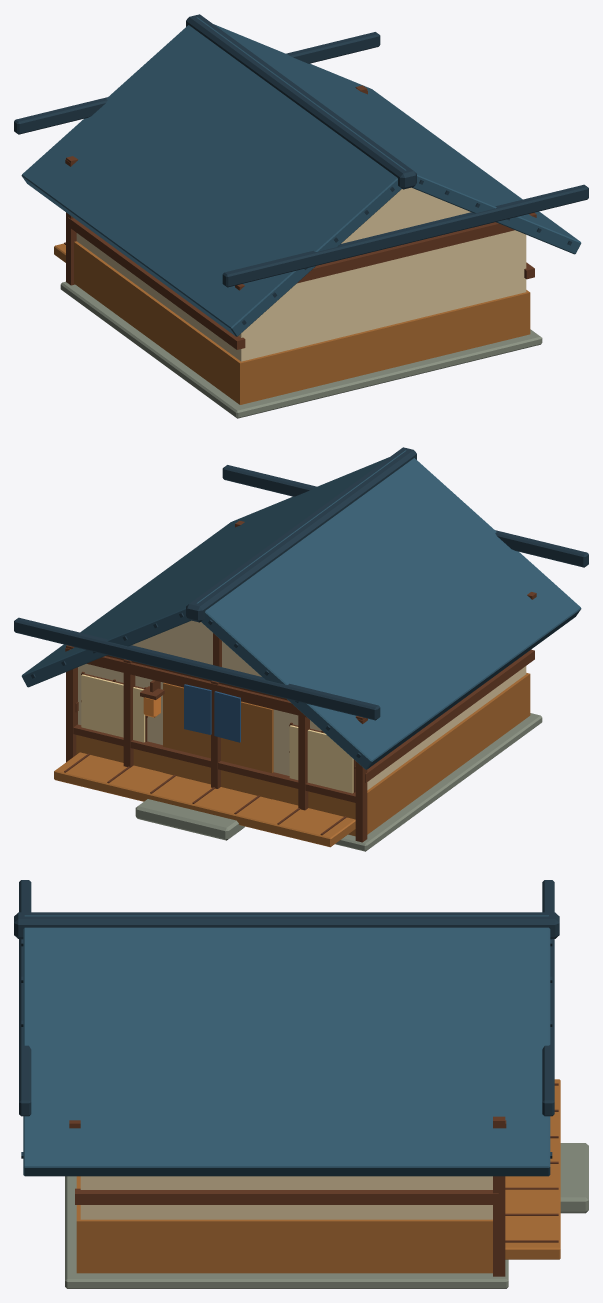
File: grandma_house_exterior.glb
3 renders of one model, top to bottom at view 1: azimuth 30°, elevation 25°; view 2: azimuth 150°, elevation 25°; view 3: azimuth 270°, elevation 25°, orthographic. The views are drawn at different scales.
Parts seen in each view (by area): view 1: RoofLeft, LowerWoodSkirt, MainBody, RoofRight, Foundation, RoofEave_-4.72, RoofRidge, BackGable, RoofEave_4.72, BackTopBeam, CornerPost_-3.78, FrontPost_-3.78; view 2: RoofLeft, RoofRight, LowerWoodSkirt, EngawaDeck, RoofEave_4.72, RoofRidge, MainBody, EntryDoorLeft, Foundation, WindowGlowRight, EntryDoorRight, RoofEave_-4.72 (+13 smaller); view 3: RoofRight, LowerWoodSkirt, MainBody, RoofRidge, Foundation, CornerPost_3.78, EngawaDeck, EntranceStep, RoofEave_4.72, RoofEave_-4.72, FrontPost_3.78, RoofLeft.
Boxes of the visible parts, left/top/right/bottom form: RoofLeft: left=21, top=17, right=406, bottom=336; LowerWoodSkirt: left=74, top=241, right=530, bottom=404; MainBody: left=76, top=230, right=526, bottom=361; RoofRight: left=196, top=17, right=581, bottom=254; Foundation: left=60, top=281, right=542, bottom=418; RoofEave_-4.72: left=222, top=184, right=588, bottom=287; RoofRidge: left=186, top=14, right=416, bottom=189; BackGable: left=341, top=187, right=470, bottom=243; RoofEave_4.72: left=14, top=32, right=380, bottom=134; BackTopBeam: left=235, top=212, right=536, bottom=290; CornerPost_-3.78: left=68, top=217, right=245, bottom=349; FrontPost_-3.78: left=66, top=156, right=77, bottom=285; RoofLeft: left=196, top=450, right=581, bottom=769; RoofRight: left=21, top=450, right=406, bottom=687; LowerWoodSkirt: left=76, top=673, right=530, bottom=836; EngawaDeck: left=54, top=752, right=355, bottom=847; RoofEave_4.72: left=14, top=617, right=380, bottom=720; RoofRidge: left=186, top=447, right=416, bottom=622; MainBody: left=78, top=664, right=526, bottom=790; EntryDoorLeft: left=221, top=701, right=273, bottom=799; Foundation: left=335, top=713, right=542, bottom=851; WindowGlowRight: left=81, top=674, right=145, bottom=742; EntryDoorRight: left=163, top=682, right=210, bottom=784; RoofEave_-4.72: left=222, top=465, right=588, bottom=567; RoofRight: left=23, top=915, right=550, bottom=1176; LowerWoodSkirt: left=76, top=1176, right=492, bottom=1273; MainBody: left=80, top=1176, right=492, bottom=1219; RoofRidge: left=14, top=912, right=559, bottom=938; Foundation: left=65, top=1176, right=508, bottom=1288; CornerPost_3.78: left=75, top=1188, right=498, bottom=1204; EngawaDeck: left=505, top=1079, right=560, bottom=1259; EntranceStep: left=560, top=1143, right=588, bottom=1213; RoofEave_4.72: left=542, top=880, right=554, bottom=1116; RoofEave_-4.72: left=19, top=880, right=31, bottom=1116; FrontPost_3.78: left=493, top=1116, right=505, bottom=1276; RoofLeft: left=25, top=915, right=548, bottom=916.
Bounding box in the file's own units: 9.48 × 5.58 × 10.37.
